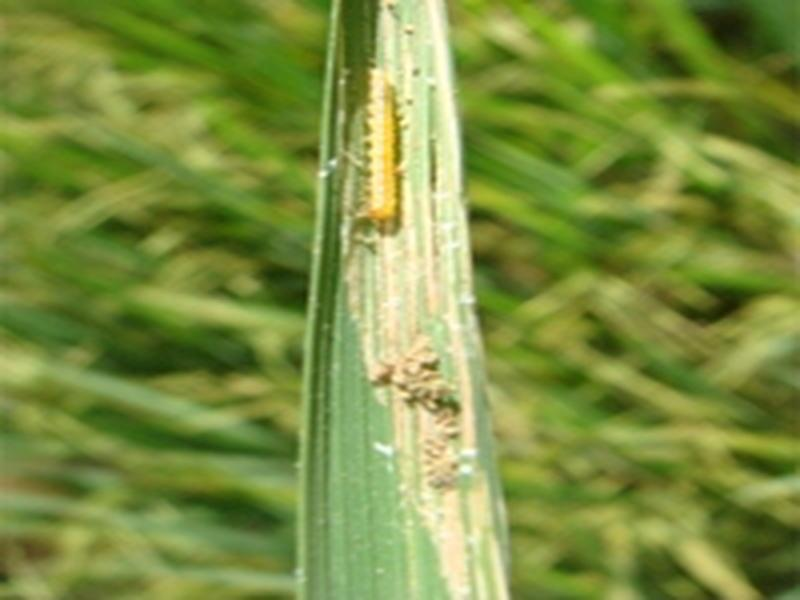Leaf_folder: (372, 313, 490, 497), (355, 51, 419, 249)
